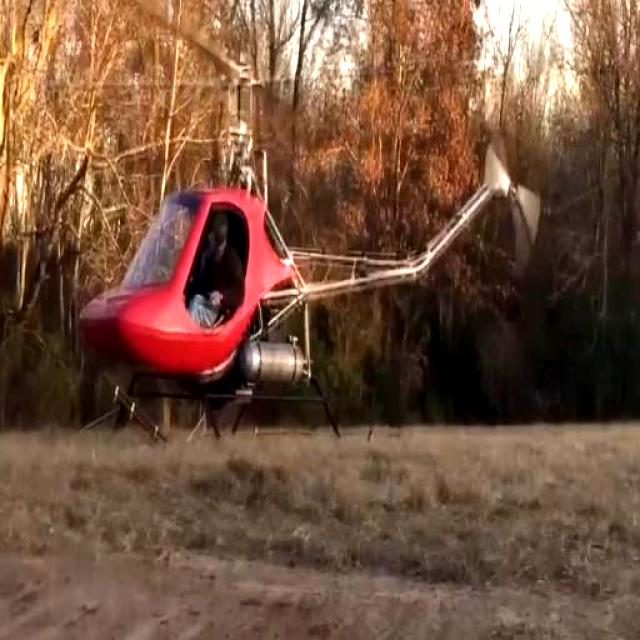drone: (55, 0, 564, 462)
